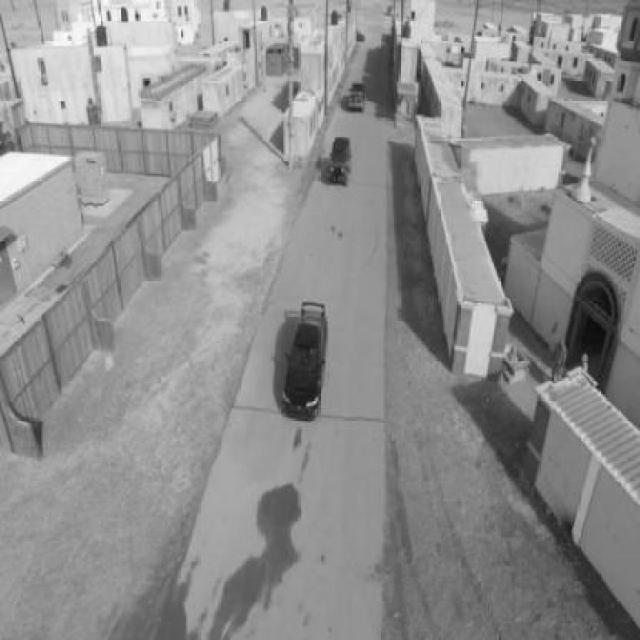Vehicle: (282, 300, 329, 420), (328, 136, 352, 187), (347, 79, 367, 112)
